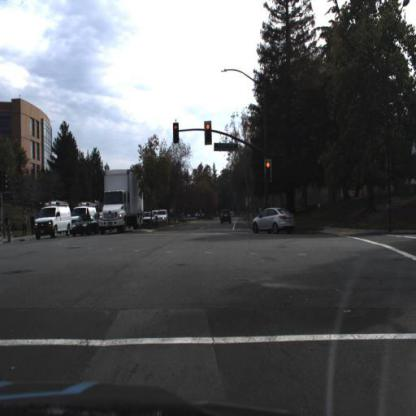biker: (3, 211, 17, 247), (5, 213, 13, 242)
car: (33, 202, 72, 242), (251, 203, 298, 236), (69, 212, 100, 239), (70, 204, 97, 220), (218, 204, 234, 227), (155, 206, 171, 228), (143, 210, 157, 225)
pedestrian: (22, 211, 28, 239), (30, 210, 36, 235)
trafficLight-Red: (205, 120, 214, 146), (265, 160, 274, 186)
trafficLight-RedLeft: (174, 123, 182, 146)
truck: (99, 165, 144, 238), (35, 203, 73, 239), (73, 205, 96, 226)
